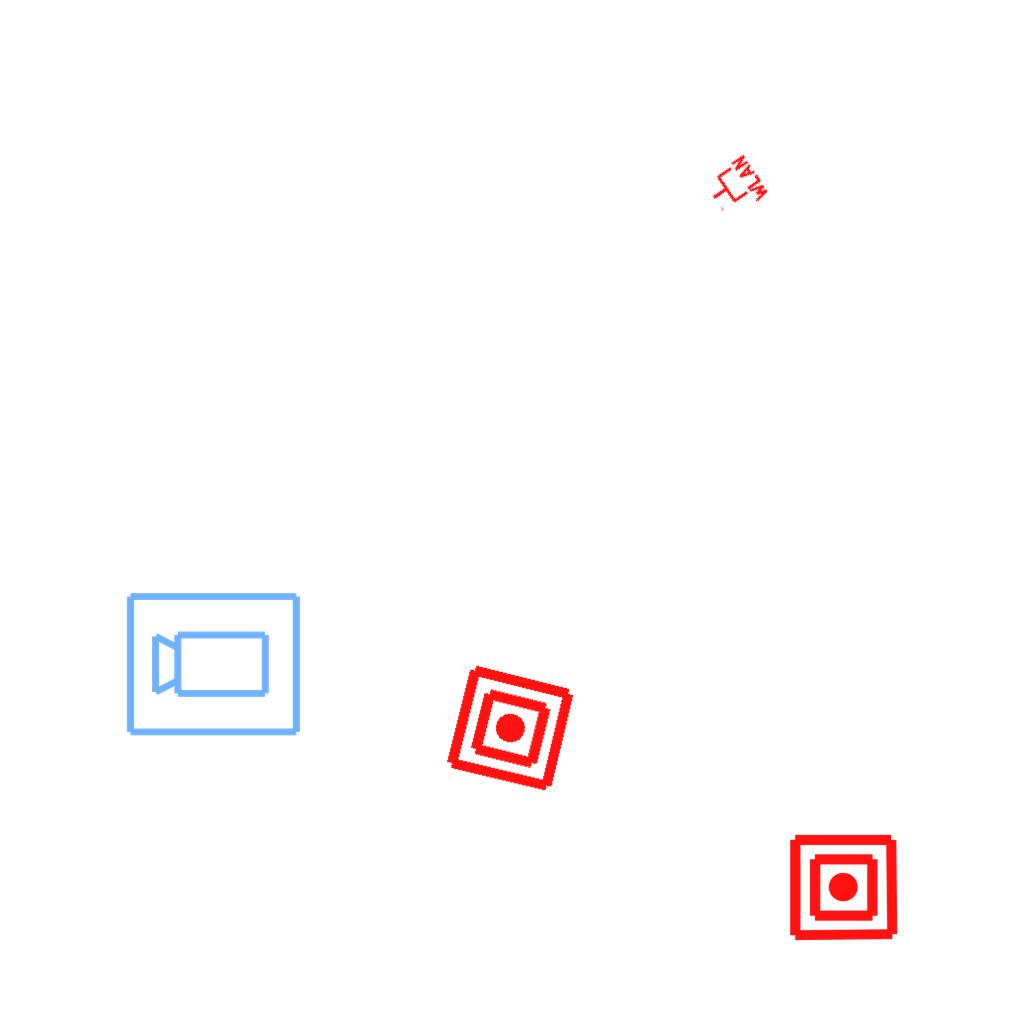KFO_Kamera_mit_Festobjektiv: (123, 586, 305, 740)
NAM-Nichtautomatischer_Melder: (442, 660, 579, 797), (787, 831, 900, 944)
WLAN: (699, 151, 773, 225)
